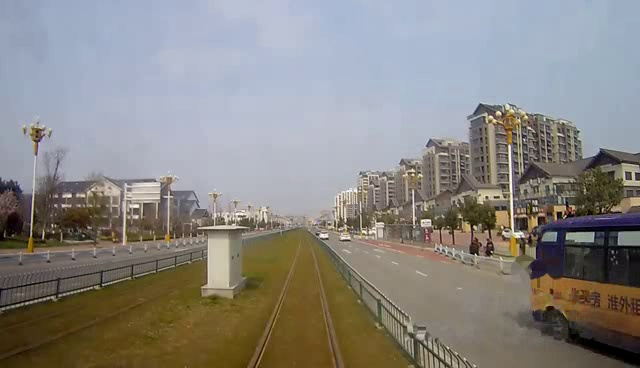bus: (518, 213, 640, 351)
car: (338, 228, 353, 243)
